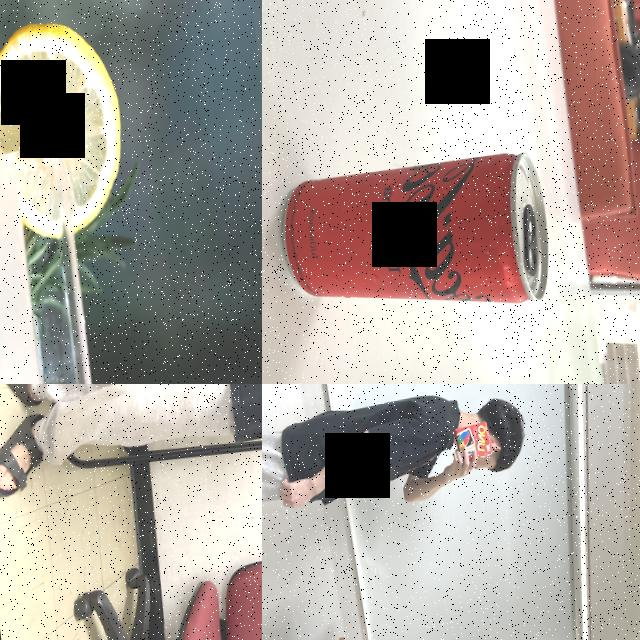can: (273, 146, 555, 332)
cup: (0, 131, 105, 384)
